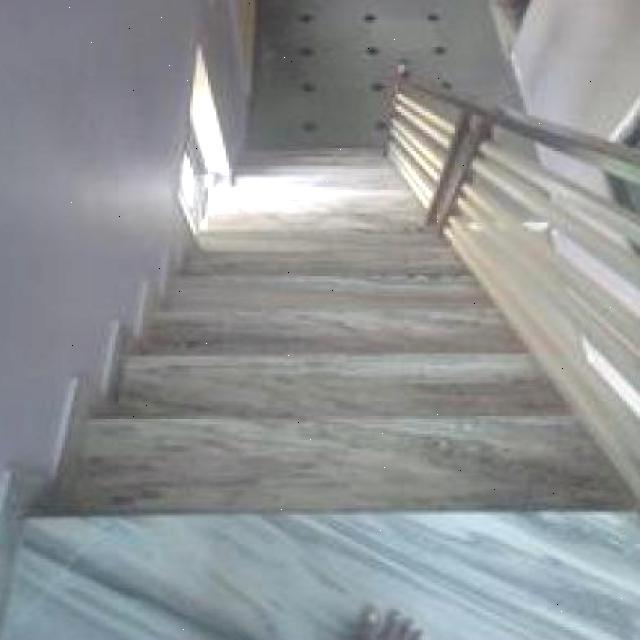stair: (42, 301, 578, 554)
